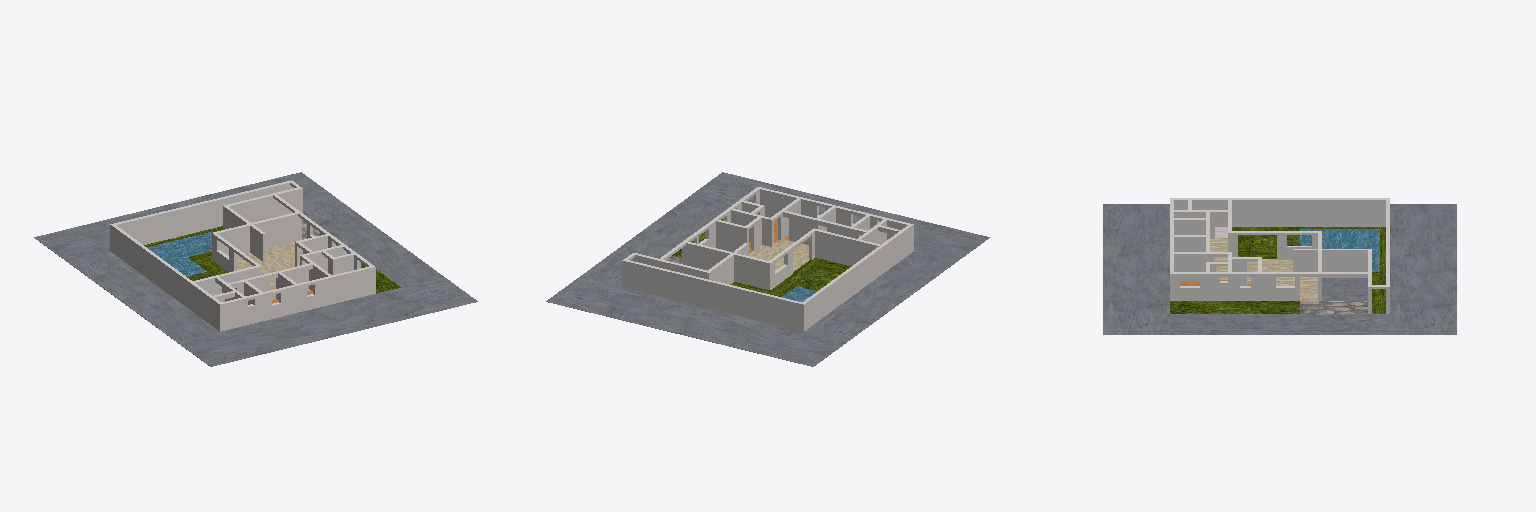
3 views of the same model, side by side, from view 1: azimuth 30°, elevation 25°; view 2: azimuth 150°, elevation 25°; view 3: azimuth 270°, elevation 25° (orthographic).
Parts seen in each view (by area): view 1: Cube_111, Cube_113, Cube_112, Cube_059, Cube_056, Cube_007, Cube_068, Cube_067, Cube_058, Cube_001, Cube_072, Cube_002 (+2 smaller); view 2: Cube_059, Cube_056, Cube_113, Cube_111, Cube_112, Cube_007, Cube_002, Cube_058, Cube_068, Cube_001, Cube_092, Cube_093 (+6 smaller); view 3: Cube_059, Cube_111, Cube_112, Cube_007, Cube, Cube_066, Cube_011, Cube_029, Cube_009, Cube_031, Cube_069, Cube_001 (+6 smaller).
Boxes of the visible parts, x1=… form: Cube_111: x1=177, y1=277, x2=477, y2=366; Cube_113: x1=68, y1=252, x2=219, y2=341; Cube_112: x1=303, y1=197, x2=443, y2=287; Cube_059: x1=34, y1=172, x2=334, y2=261; Cube_056: x1=114, y1=180, x2=293, y2=244; Cube_007: x1=110, y1=224, x2=192, y2=308; Cube_068: x1=313, y1=266, x2=371, y2=308; Cube_067: x1=223, y1=187, x2=302, y2=229; Cube_058: x1=242, y1=211, x2=301, y2=253; Cube_001: x1=190, y1=282, x2=223, y2=331; Cube_072: x1=279, y1=282, x2=306, y2=316; Cube_002: x1=193, y1=266, x2=258, y2=295; Cube_059: x1=546, y1=277, x2=846, y2=366; Cube_056: x1=622, y1=259, x2=801, y2=330; Cube_113: x1=804, y1=252, x2=955, y2=341; Cube_111: x1=689, y1=172, x2=989, y2=261; Cube_112: x1=580, y1=197, x2=728, y2=286; Cube_007: x1=800, y1=246, x2=883, y2=331; Cube_002: x1=815, y1=229, x2=879, y2=266; Cube_058: x1=682, y1=241, x2=741, y2=282; Cube_068: x1=760, y1=187, x2=818, y2=219; Cube_001: x1=880, y1=224, x2=913, y2=272; Cube_092: x1=716, y1=220, x2=748, y2=251; Cube_093: x1=728, y1=208, x2=773, y2=246; Cube_059: x1=1390, y1=204, x2=1456, y2=334; Cube_111: x1=1103, y1=204, x2=1169, y2=334; Cube_112: x1=1170, y1=314, x2=1389, y2=334; Cube_007: x1=1230, y1=198, x2=1389, y2=226; Cube: x1=1170, y1=301, x2=1299, y2=313; Cube_066: x1=1322, y1=249, x2=1367, y2=277; Cube_011: x1=1322, y1=278, x2=1367, y2=300; Cube_029: x1=1232, y1=227, x2=1299, y2=250; Cube_009: x1=1300, y1=301, x2=1367, y2=313; Cube_031: x1=1340, y1=229, x2=1379, y2=250; Cube_069: x1=1174, y1=252, x2=1213, y2=280; Cube_001: x1=1170, y1=198, x2=1229, y2=226.
Bounding box in the file's own units: 3100 × 303 × 3548.
9 materials, 9 textured.